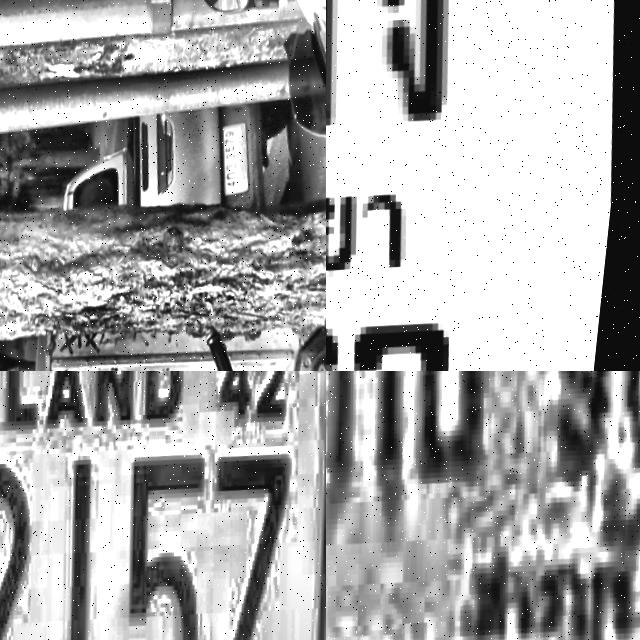license-plate: (326, 0, 640, 371), (0, 371, 326, 640), (326, 371, 640, 640), (115, 289, 182, 340)
